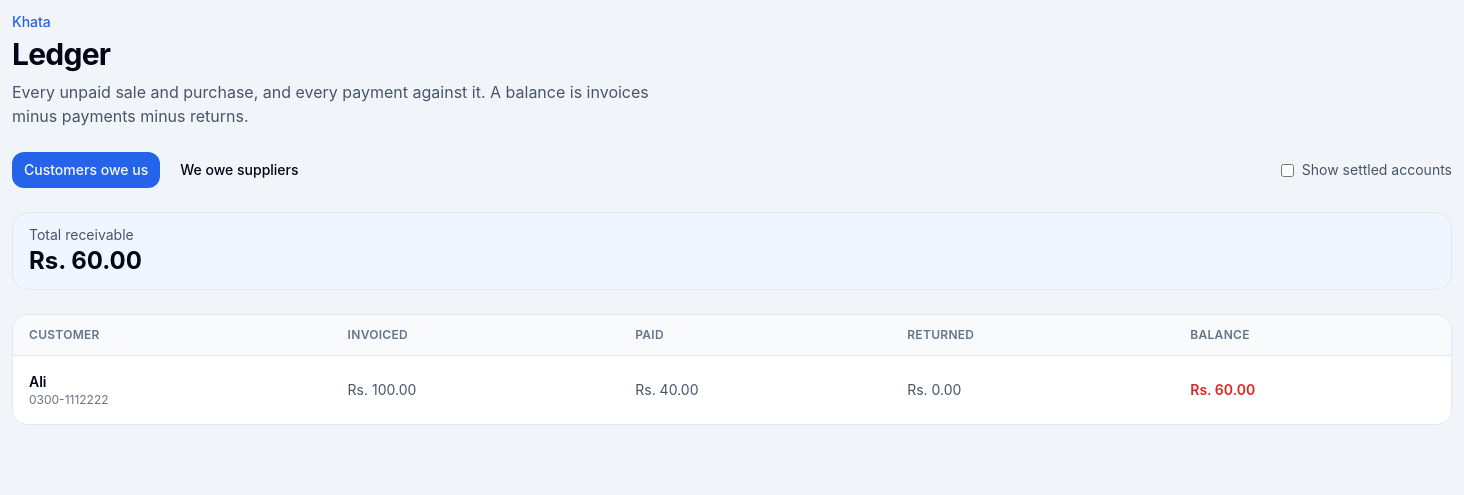
it: LedgerScreen › shows settled accounts once asked for
The width and height of the screenshot is (1464, 495).
Expected: the text "Ali" is shown, [29, 373, 46, 390]
Click the checkbox labelled "Show settled accounts". click: (1287, 170)
box: [1281, 164, 1294, 176]
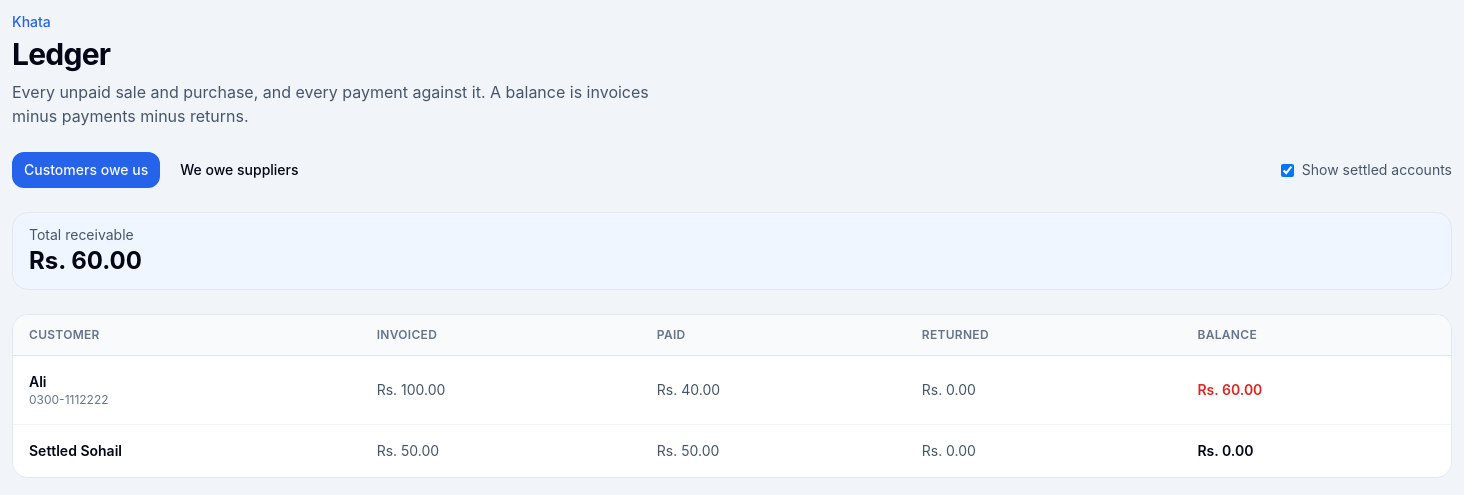
Expected: the text "Settled Sohail" is shown, [29, 442, 122, 459]
